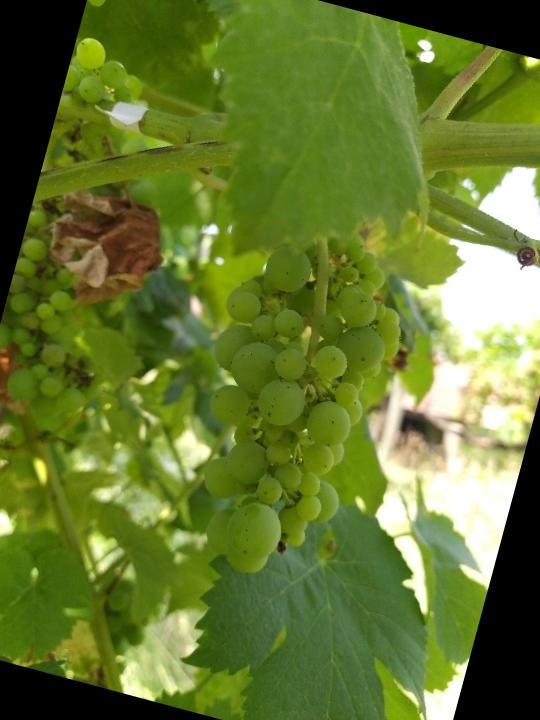grape: (158, 204, 428, 601)
